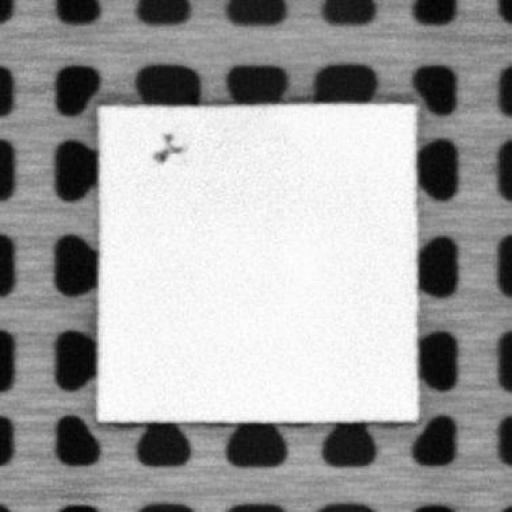DIE_INK: (152, 128, 183, 162)
